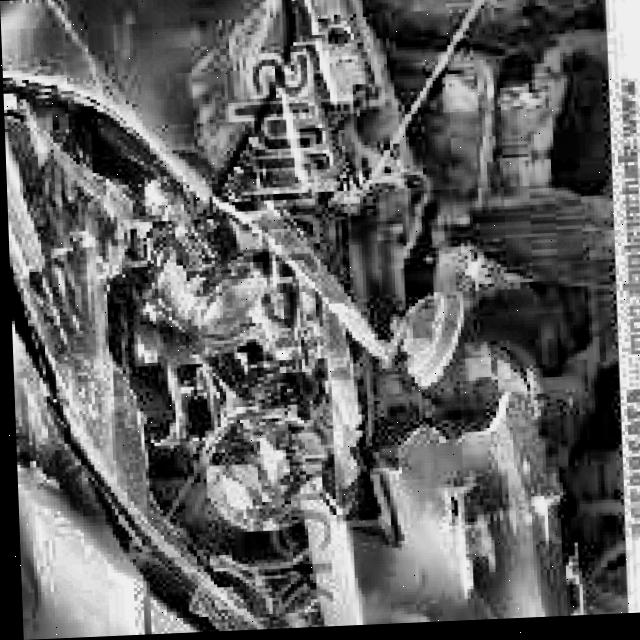head_lamp: (102, 160, 434, 562)
